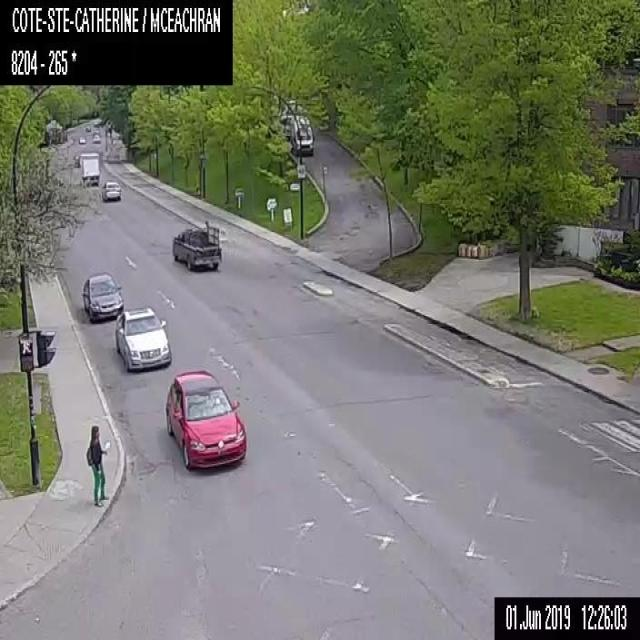pedestrian: (85, 424, 109, 507)
vehicle: (165, 369, 246, 469), (115, 306, 171, 372), (173, 220, 220, 270), (82, 272, 123, 321), (289, 113, 313, 154), (79, 151, 100, 185), (101, 180, 120, 200), (72, 154, 79, 167), (93, 130, 100, 137), (78, 136, 85, 142), (85, 124, 90, 130)
